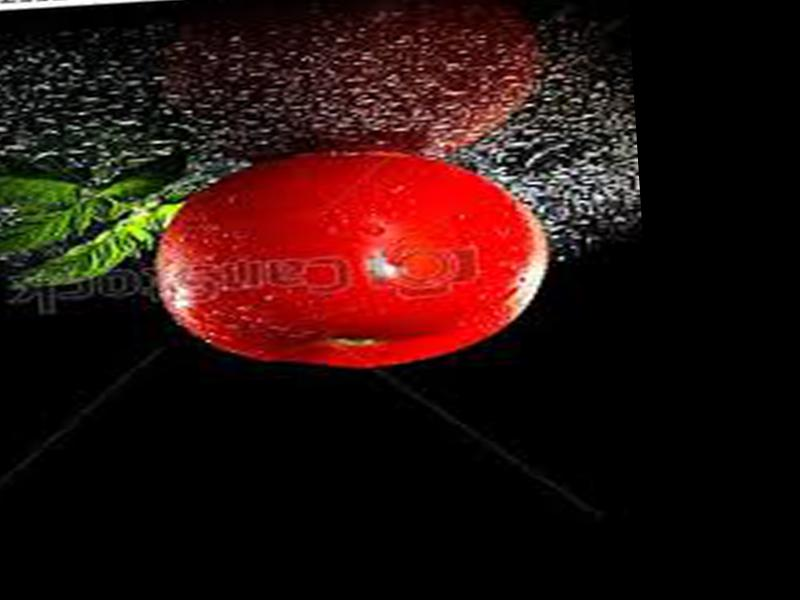Tomato: (150, 140, 552, 380)
